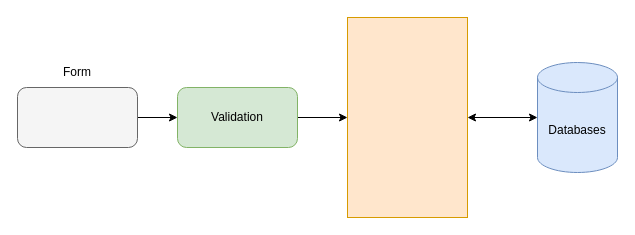
Image size: 635x235. Some labels were removed from this diagram. Each missing label, with the box of its shape:
Back-end server: (346, 16, 468, 218)
Comment: (16, 86, 138, 148)
